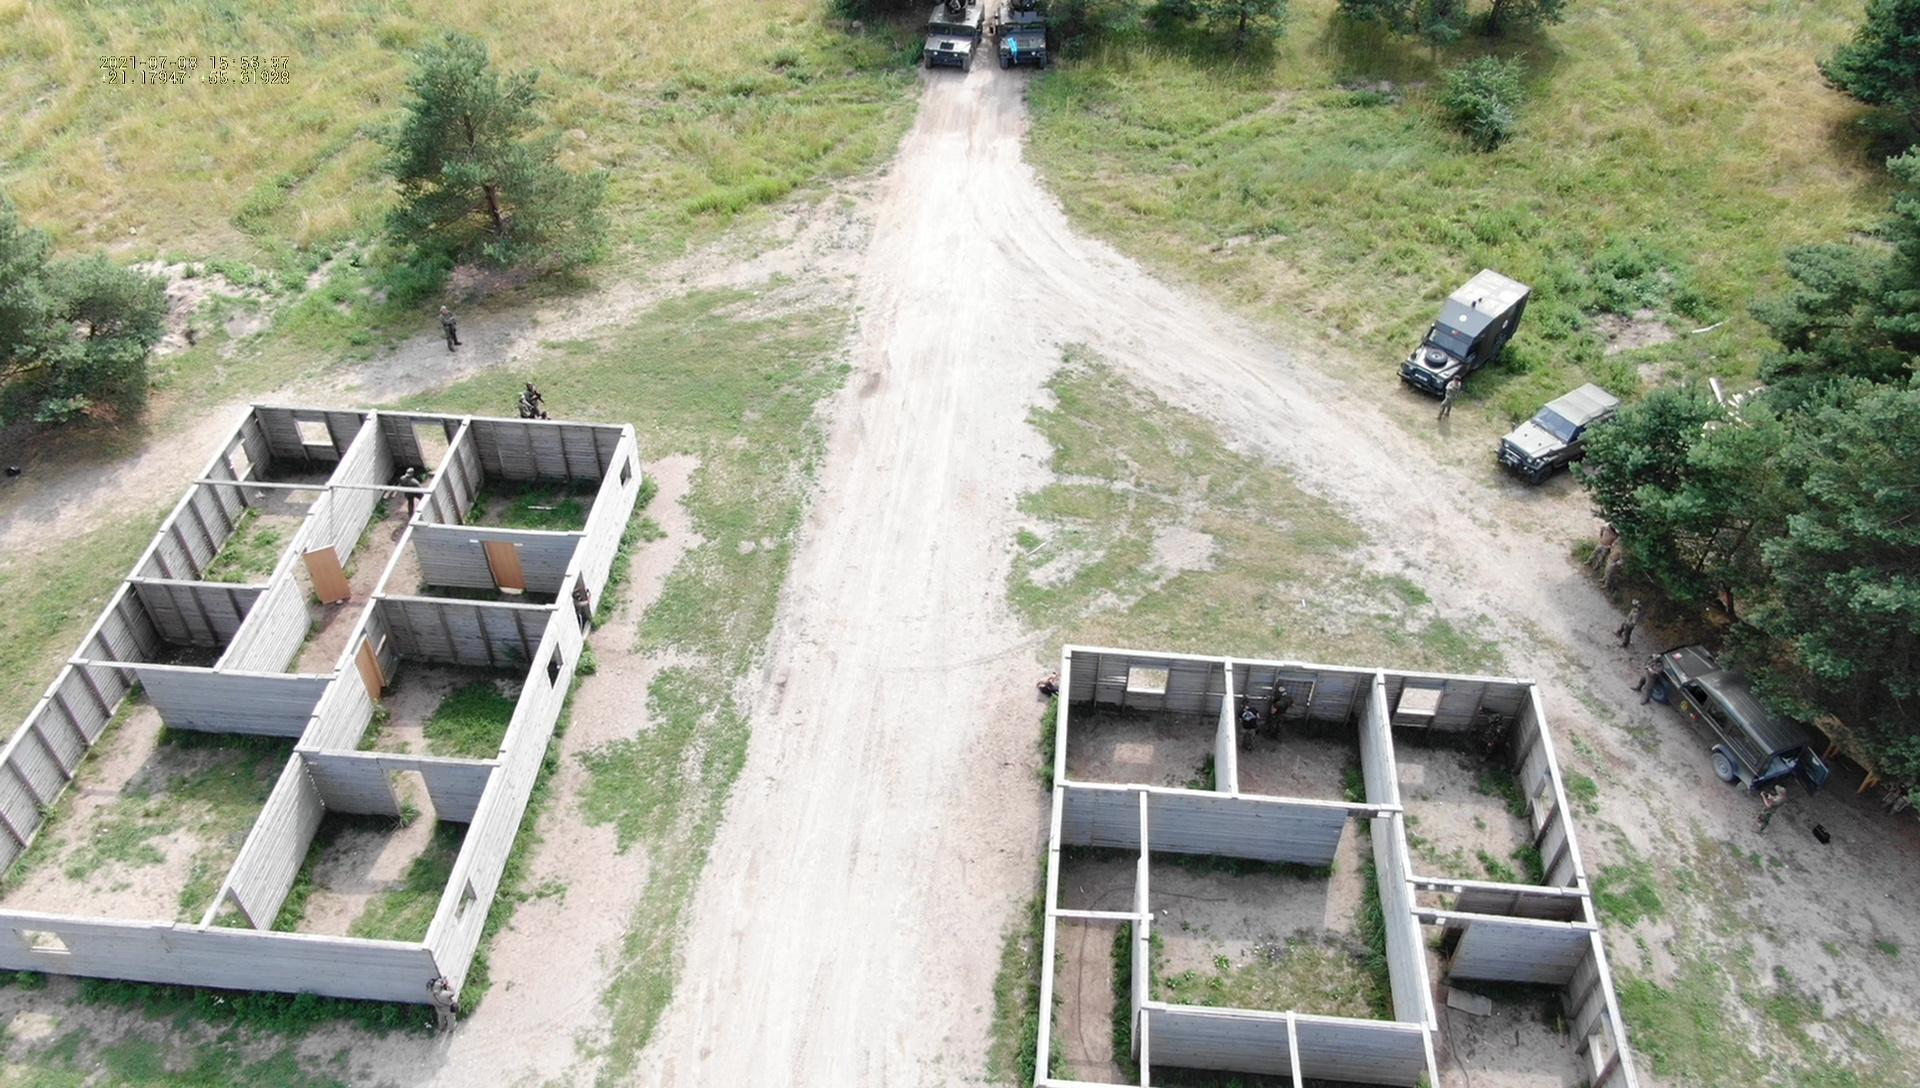Soldier: (1477, 715, 1520, 785), (1636, 651, 1676, 712), (429, 299, 469, 357), (1588, 520, 1618, 578), (1605, 533, 1626, 586), (520, 376, 546, 409)
